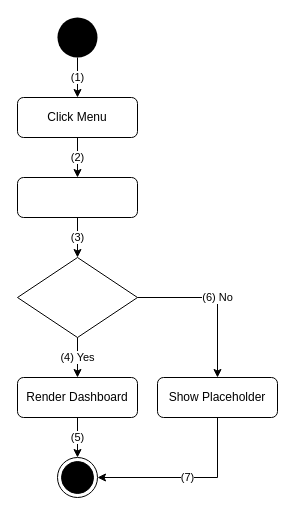
Image size: 295x515. Some labels were removed from this diagram. Here are the shapes that lost their labels. From the top down, the centre of each, then its label:
At (77,197): "Query DB".
At (77,297): "Is Published".
